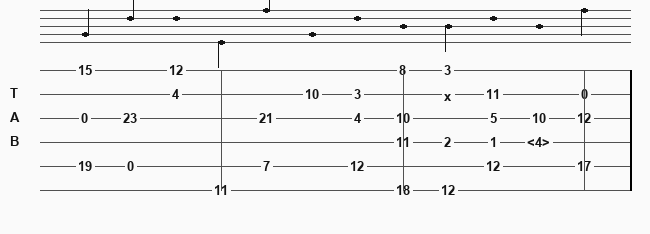0: (81, 111, 92, 125), (127, 159, 138, 173), (581, 87, 592, 101)
1: (490, 135, 501, 149)
10: (305, 87, 323, 101), (396, 111, 414, 125), (532, 111, 550, 125)
11: (214, 183, 232, 197), (396, 135, 414, 149), (486, 87, 504, 101)
12: (169, 63, 187, 77), (350, 159, 368, 173), (441, 183, 459, 197), (486, 159, 504, 173), (577, 111, 595, 125)
15: (78, 63, 96, 77)
17: (577, 159, 595, 173)
18: (396, 183, 414, 197)
19: (78, 159, 96, 173)
2: (444, 135, 455, 149)
21: (259, 111, 277, 125)
23: (123, 111, 141, 125)
3: (354, 87, 365, 101), (444, 63, 455, 77)
4: (172, 87, 183, 101), (354, 111, 365, 125)
5: (490, 111, 501, 125)
7: (263, 159, 274, 173)
8: (399, 63, 410, 77)
harmonic: (527, 135, 554, 149)
x: (444, 89, 456, 100)
